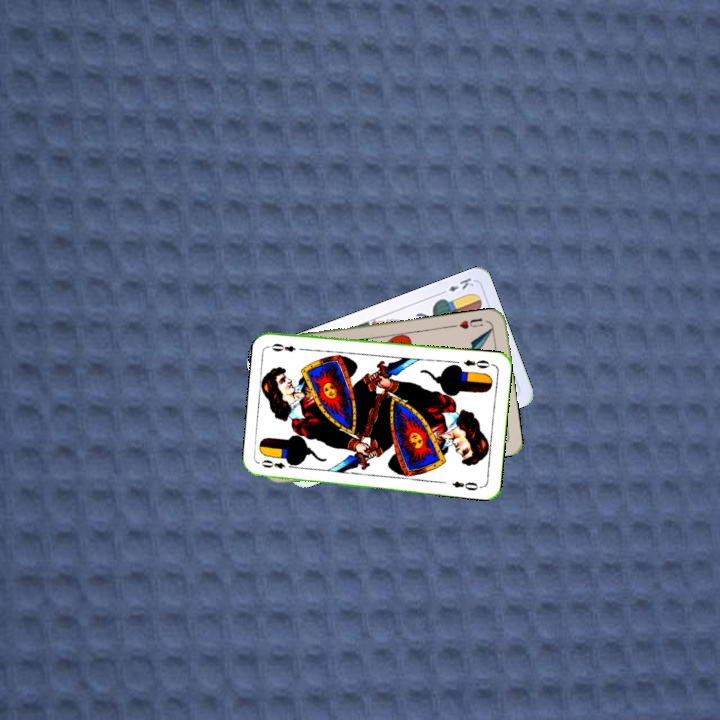EK: (436, 273, 476, 297)
EO: (257, 456, 297, 471), (459, 355, 496, 371)
HU: (455, 314, 485, 332)
